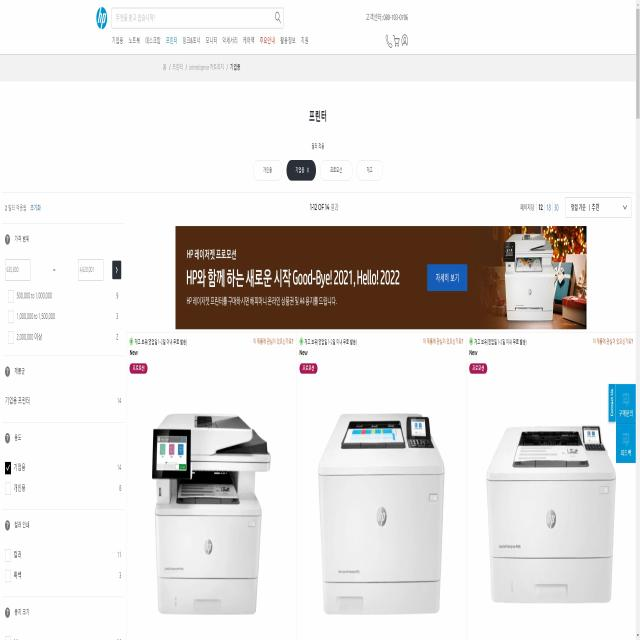tab-bar: (110, 4, 286, 30), (110, 33, 310, 48)
